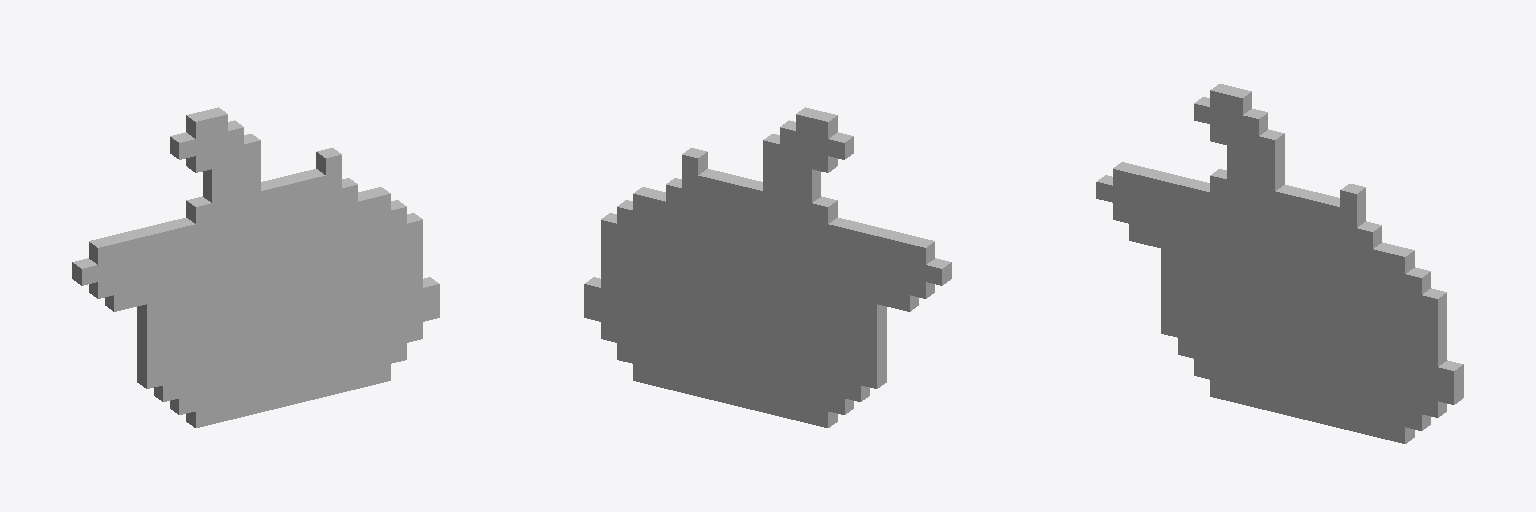
Rendered from GoatHead-0-GoatHead.obj.
3 renders of one model, left to right at view 1: azimuth 30°, elevation 25°; view 2: azimuth 150°, elevation 25°; view 3: azimuth 330°, elevation 25°, orthographic.
Visible parts, largest first — view 1: GoatHead; view 2: GoatHead; view 3: GoatHead.
Boxes of the visible parts, x1=… form: GoatHead: x1=72, y1=107, x2=439, y2=427; GoatHead: x1=584, y1=107, x2=951, y2=427; GoatHead: x1=1096, y1=84, x2=1463, y2=443.
Bounding box in the file's own units: 2.2 × 1.8 × 0.1.